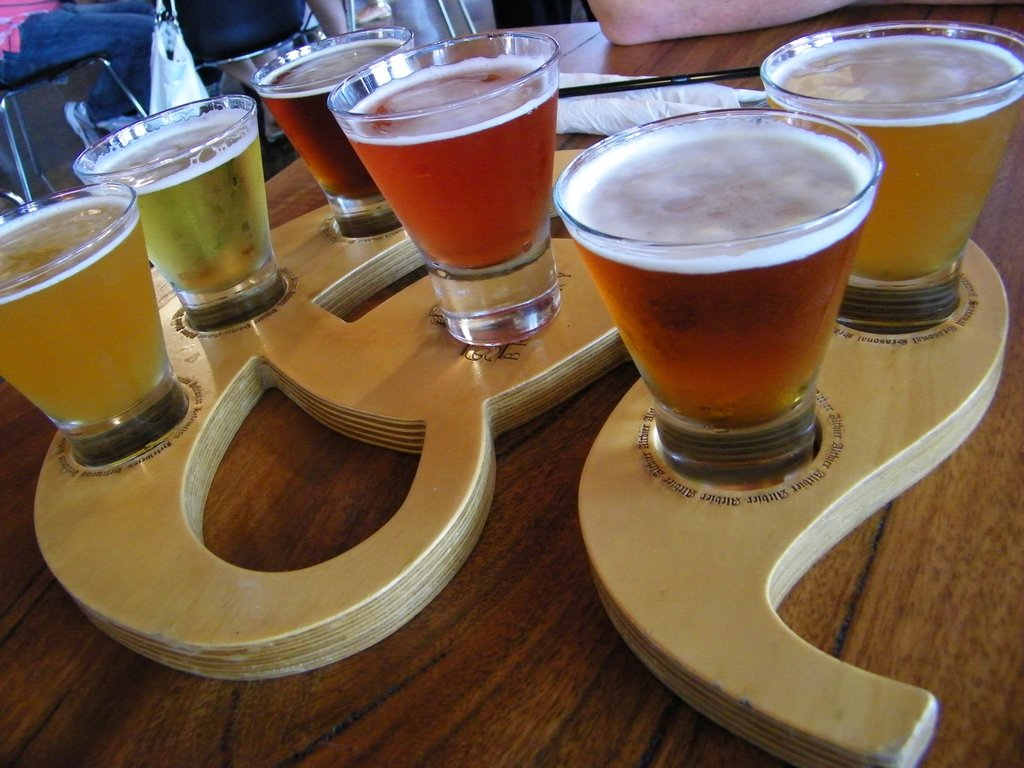Beer: (549, 108, 887, 481), (767, 37, 1023, 287), (342, 54, 559, 272), (0, 197, 185, 440), (97, 113, 275, 303), (260, 42, 410, 214)
